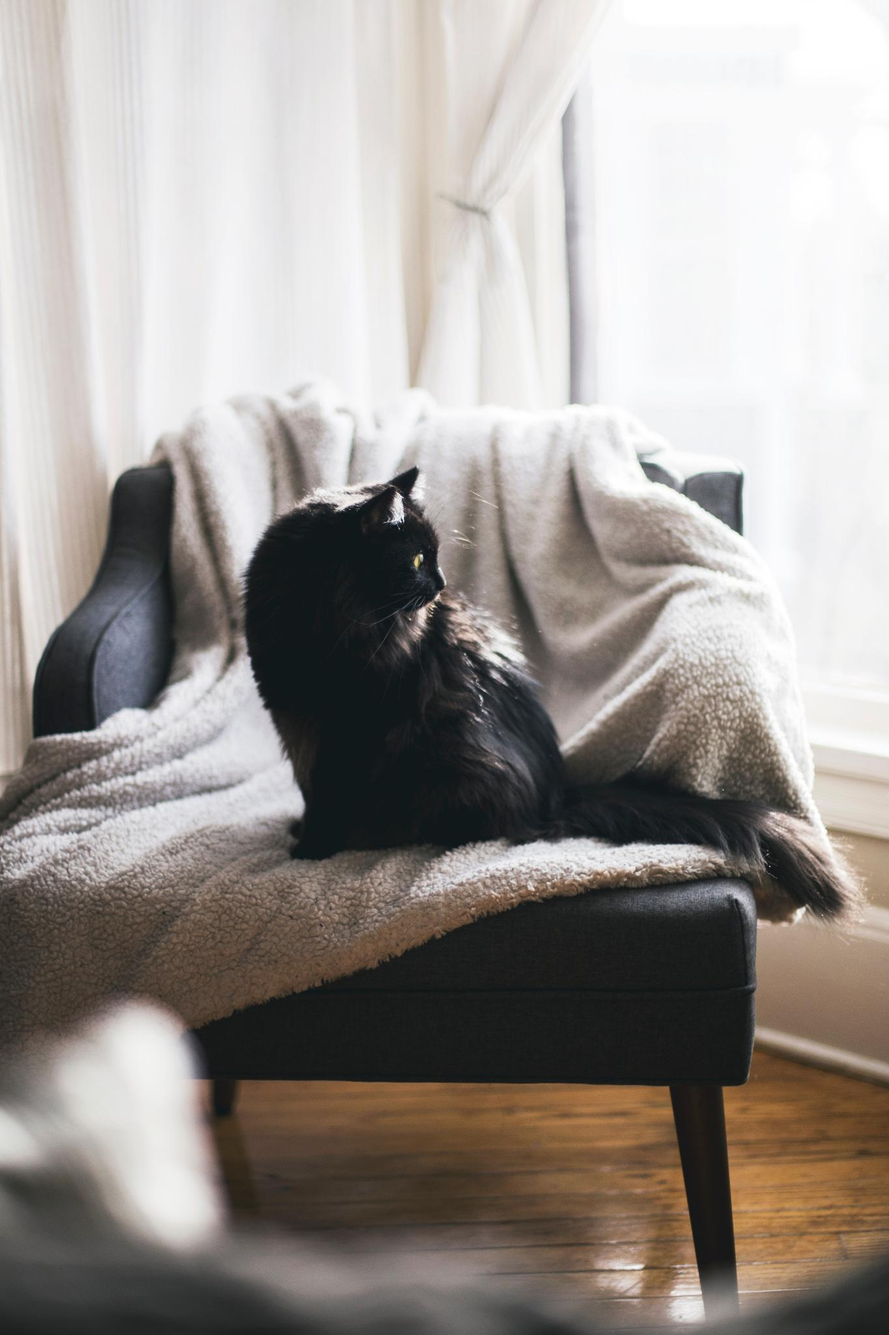cat: (240, 464, 869, 933)
